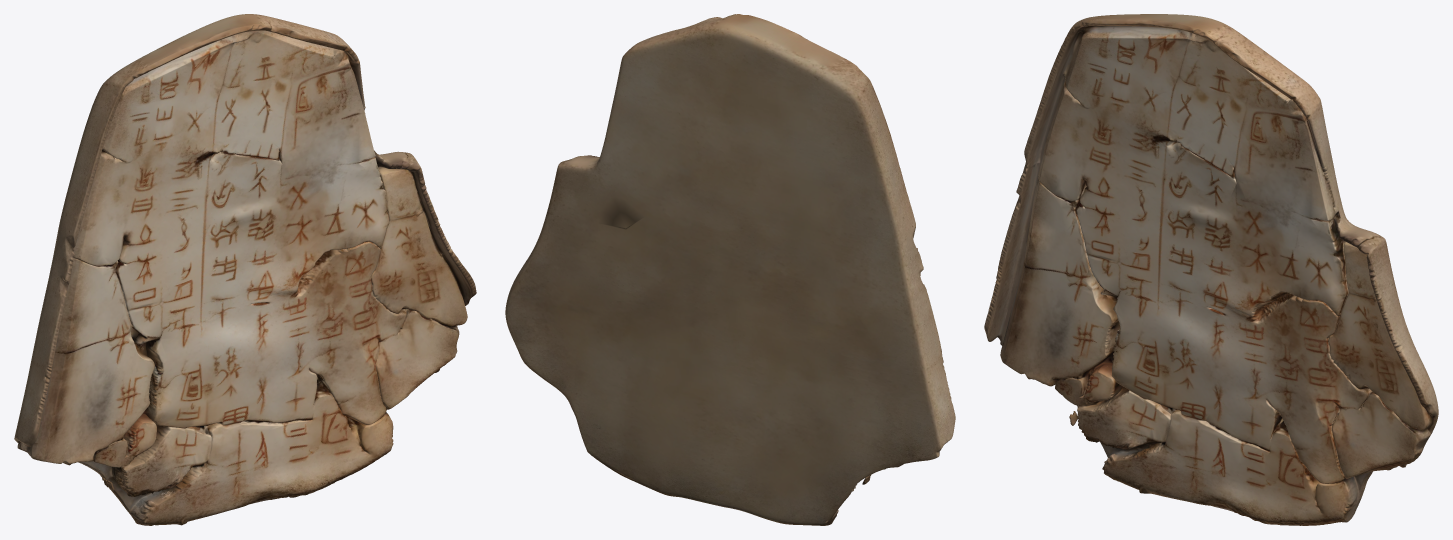
3 renders of one model, left to right at view 1: azimuth 30°, elevation 25°; view 2: azimuth 150°, elevation 25°; view 3: azimuth 330°, elevation 25°, orthographic.
Visible parts, largest first — view 1: node_0; view 2: node_0; view 3: node_0.
Part boxes in pixels (bbox=[...]): node_0: bbox=[14, 14, 476, 525]; node_0: bbox=[505, 14, 955, 525]; node_0: bbox=[984, 14, 1438, 525].
Bounding box in the file's own units: 1.05 × 1.1 × 0.0872.
Materials: 1 (1 with a texture image).
